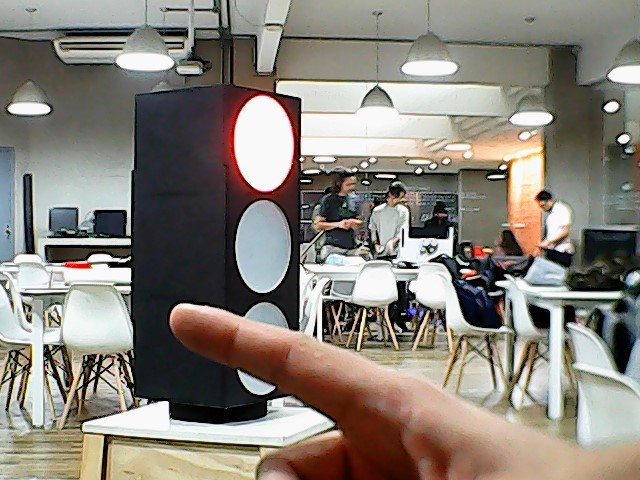vermelho: (126, 79, 309, 407)
